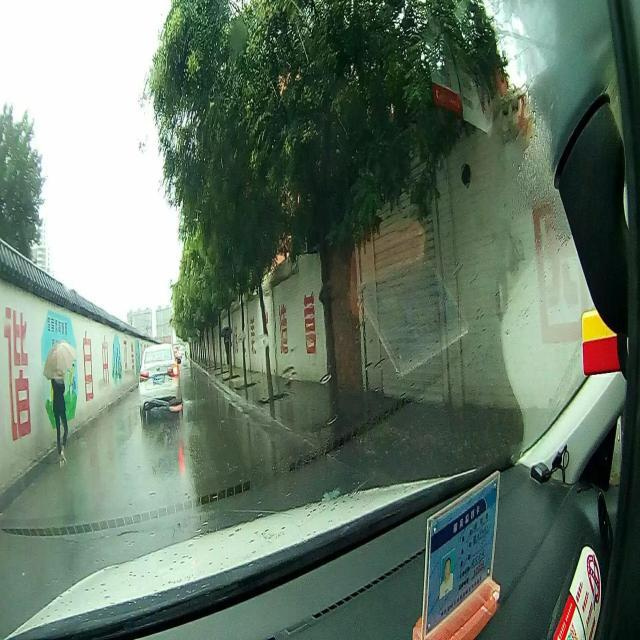car: (138, 344, 183, 422)
